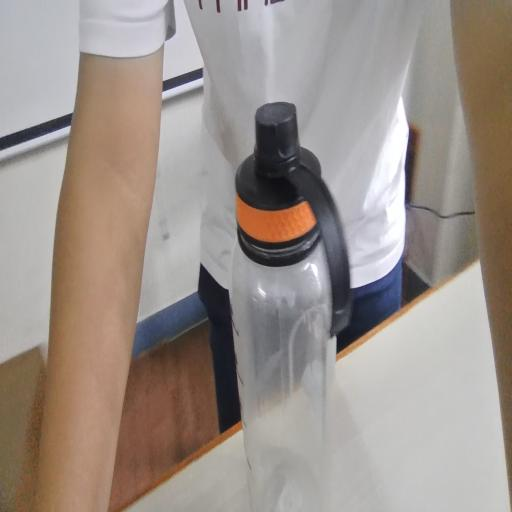Bottle: (233, 57, 353, 512)
